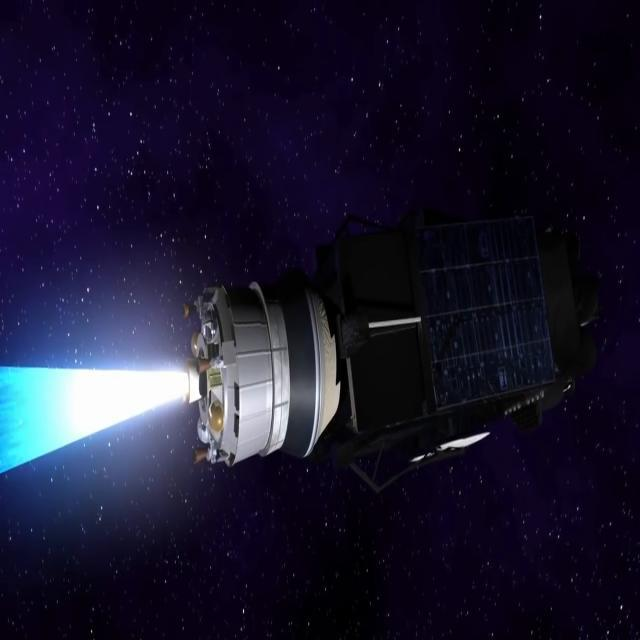sat: (181, 258, 596, 500)
